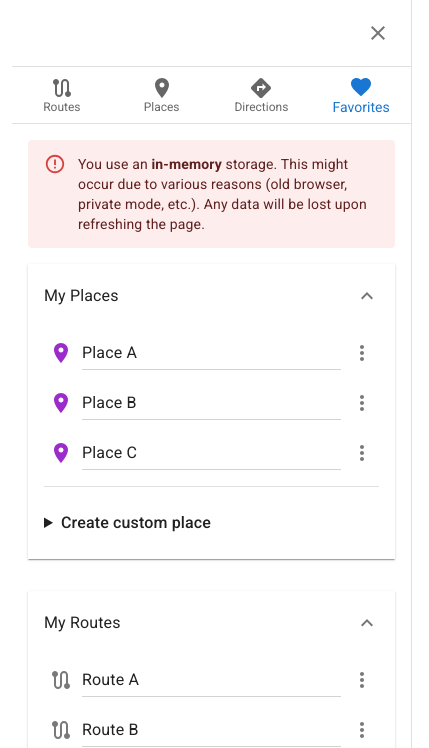
Scenario: <PanelDrawer /> › favorites › places › should preserve the state of `create place` dialog upon navigation
The width and height of the screenshot is (429, 748).
Step 1. Click the heading "Create custom place" → click(136, 523), box [61,513,211,532]
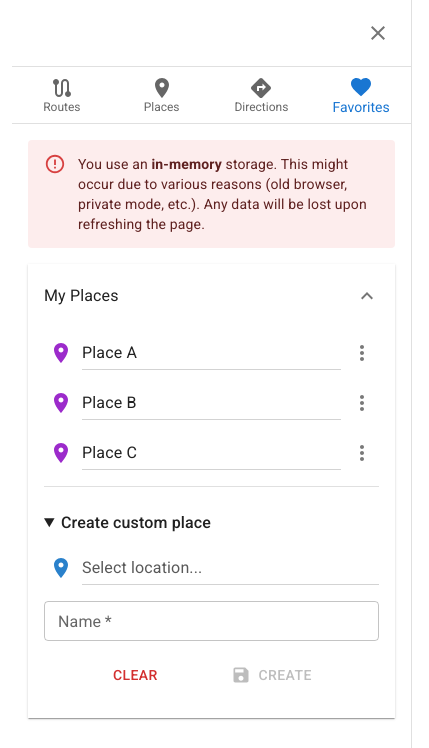
Step 2. Type "Place A" into the field labelled "Name" → (212, 621), box [44,601,379,641]
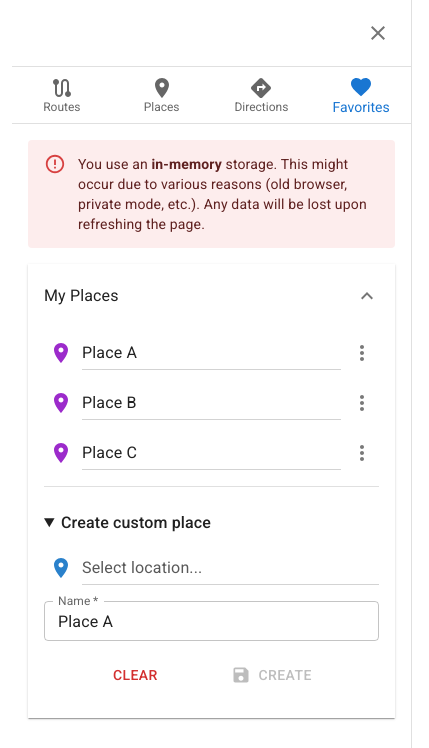
Step 3. Click the button with aria-label "Search routes" → click(62, 95), box [12,67,112,123]
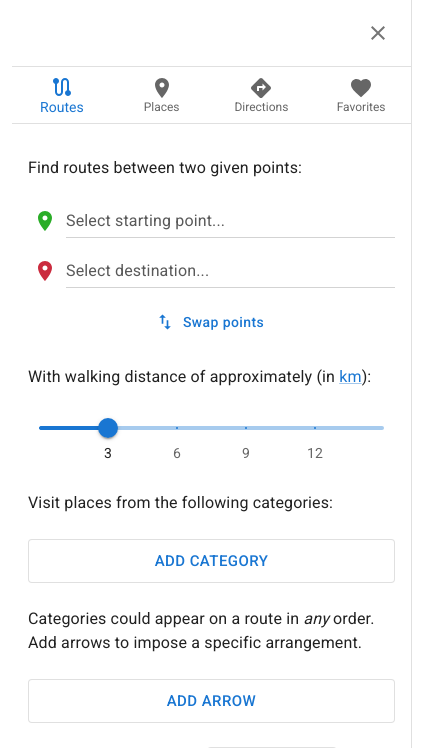
Step 4. Click the button "Favorites" → click(361, 95), box [311,67,411,123]
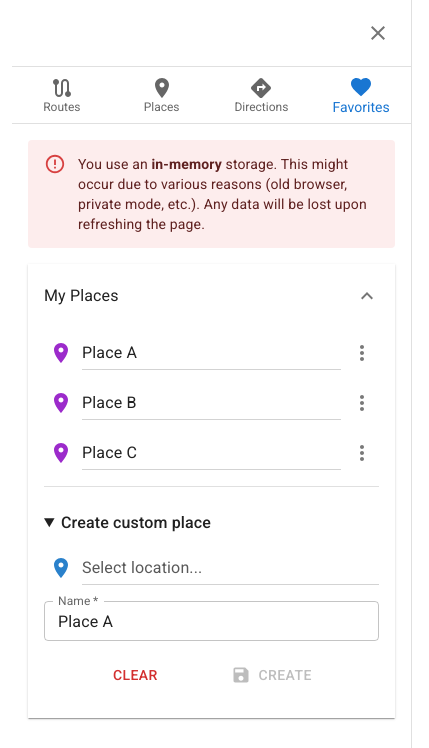
Expected: the field labelled "Name" holds "Place A", [44,601,379,641]
